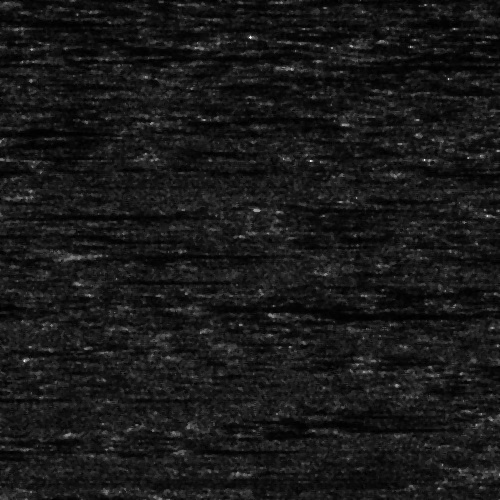object: (0, 208, 56, 219), (272, 61, 355, 68), (38, 251, 111, 258), (358, 167, 421, 174), (179, 302, 220, 309), (276, 310, 317, 317), (65, 277, 118, 282), (320, 424, 361, 429), (162, 117, 193, 122)
shadow: (199, 302, 500, 309), (0, 208, 169, 219), (297, 310, 500, 317), (313, 61, 500, 68), (75, 251, 256, 258), (178, 117, 343, 122), (390, 167, 500, 174), (91, 277, 236, 282), (341, 424, 457, 429), (0, 102, 35, 109), (0, 167, 11, 172)
